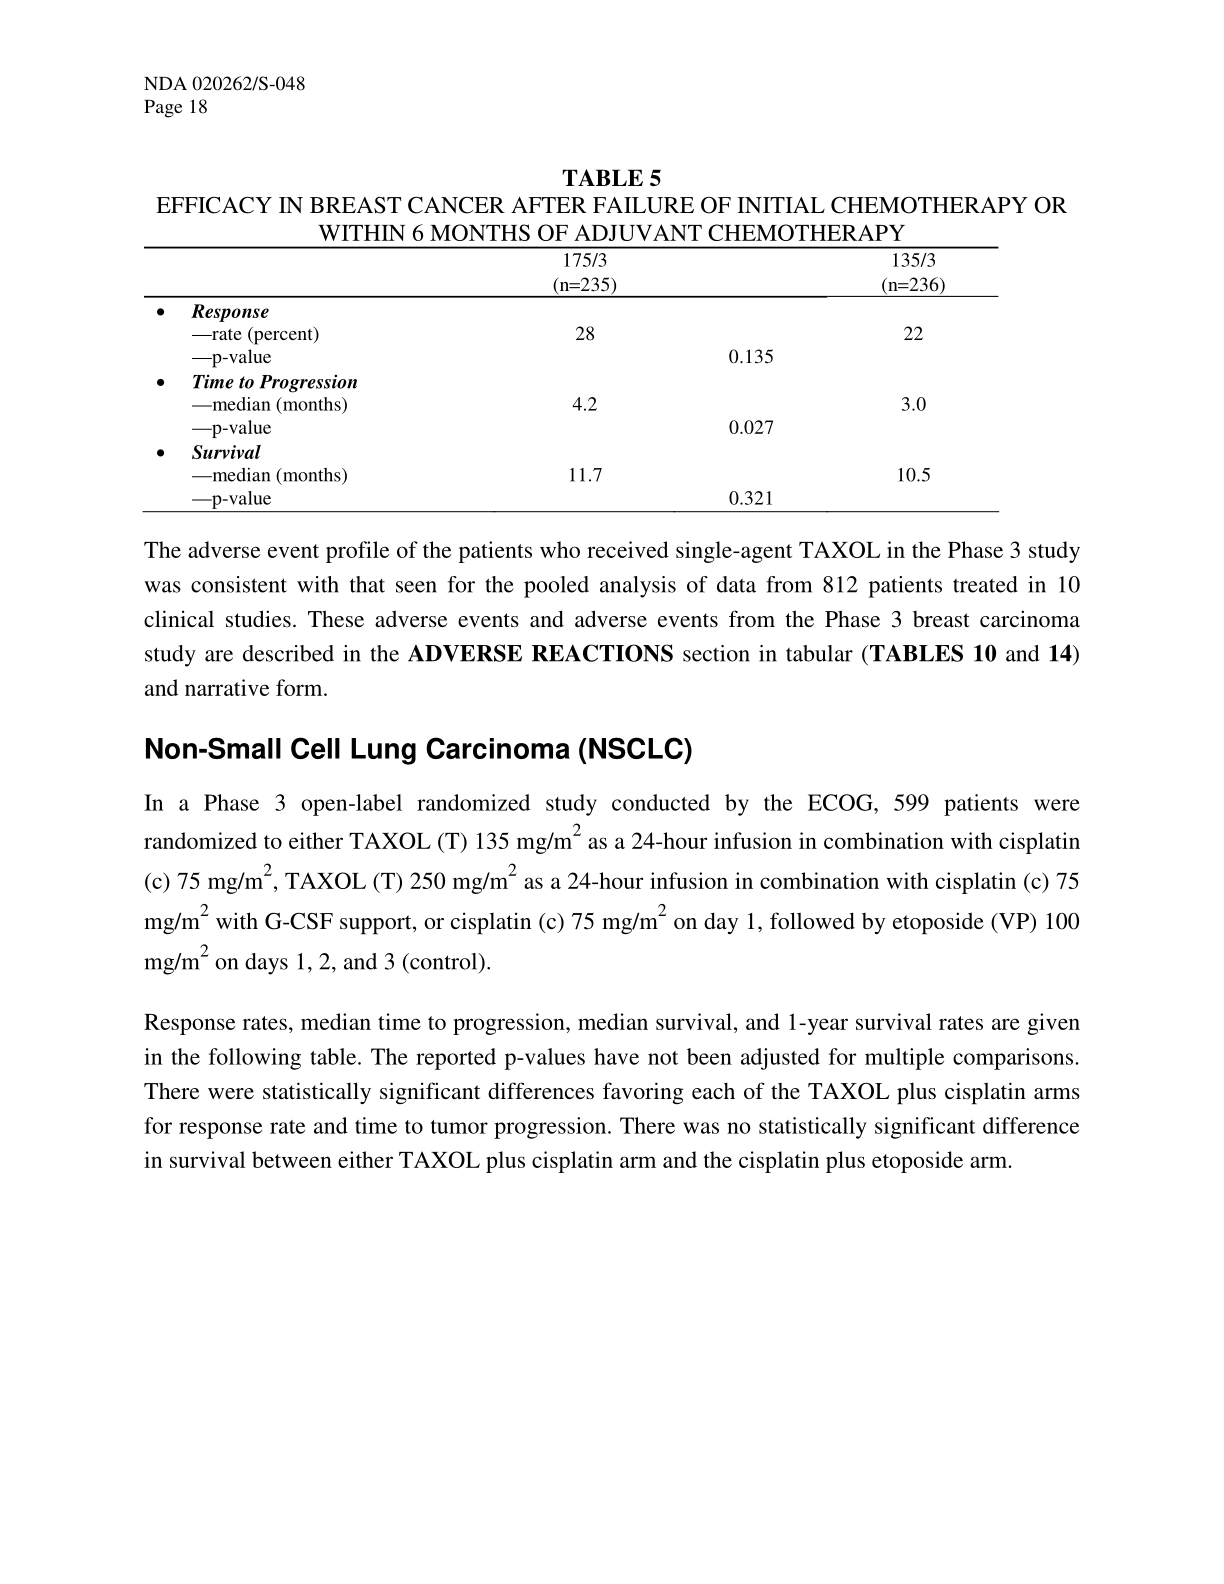partial_lined: (141, 246, 1002, 514)
